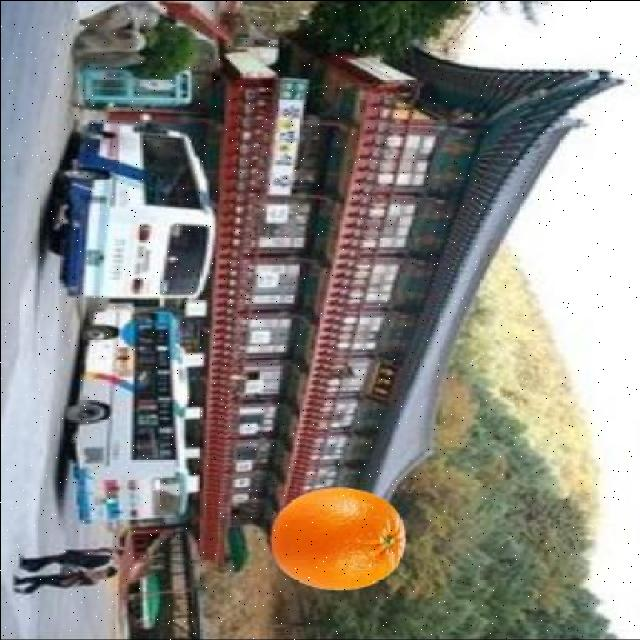Orange: (269, 486, 408, 592)
